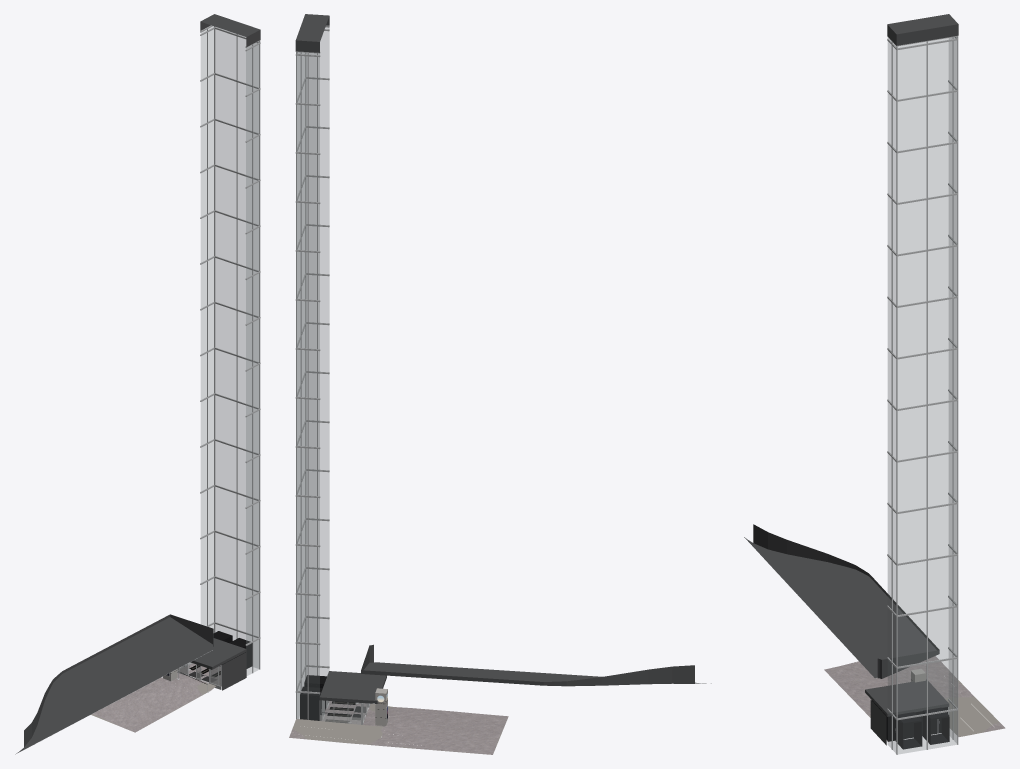
Rendered from skylobby.glb.
The picture shows the model from 3 angles, left to right: view 1: azimuth 30°, elevation 25°; view 2: azimuth 150°, elevation 25°; view 3: azimuth 270°, elevation 25°; orthographic projection. The views are drawn at different scales.
Visible parts, largest first — view 1: skylobby_glass_front, skylobby_metal_soffit, skylobby_metal_frame, skylobby_ground_plank, skylobby_ground_plank_dark, skylobby_ground_plank_pale, skylobby_room_panel; view 2: skylobby_glass_front, skylobby_metal_soffit, skylobby_metal_frame, skylobby_ground_plank, skylobby_ground_plank_dark, skylobby_ground_tile_joint, skylobby_ground_plank_pale, skylobby_room_panel; view 3: skylobby_glass_front, skylobby_metal_soffit, skylobby_metal_frame, skylobby_room_panel, skylobby_ground_tile_joint, skylobby_ground_plank, skylobby_ground_plank_dark, skylobby_ground_plank_pale.
Boxes of the visible parts, bbox=[...] form: skylobby_glass_front: bbox=[177, 26, 259, 684]; skylobby_metal_soffit: bbox=[15, 14, 260, 754]; skylobby_metal_frame: bbox=[166, 25, 260, 689]; skylobby_ground_plank: bbox=[94, 678, 197, 732]; skylobby_ground_plank_dark: bbox=[98, 681, 202, 728]; skylobby_ground_plank_pale: bbox=[92, 677, 199, 730]; skylobby_room_panel: bbox=[213, 631, 252, 685]; skylobby_glass_front: bbox=[297, 27, 363, 720]; skylobby_metal_soffit: bbox=[295, 14, 711, 703]; skylobby_metal_frame: bbox=[295, 25, 387, 724]; skylobby_ground_plank: bbox=[289, 708, 508, 753]; skylobby_ground_plank_dark: bbox=[289, 707, 506, 752]; skylobby_ground_tile_joint: bbox=[292, 703, 505, 754]; skylobby_ground_plank_pale: bbox=[290, 708, 507, 754]; skylobby_room_panel: bbox=[300, 675, 326, 720]; skylobby_glass_front: bbox=[888, 36, 957, 754]; skylobby_metal_soffit: bbox=[744, 14, 958, 745]; skylobby_metal_frame: bbox=[871, 35, 958, 754]; skylobby_room_panel: bbox=[872, 700, 949, 749]; skylobby_ground_tile_joint: bbox=[829, 658, 1001, 736]; skylobby_ground_plank: bbox=[824, 660, 1005, 730]; skylobby_ground_plank_dark: bbox=[836, 657, 1004, 736]; skylobby_ground_plank_pale: bbox=[830, 656, 996, 732].
Bounding box in the file's own units: 38.84 × 75.64 × 24.94.
26 materials, 9 textured.
